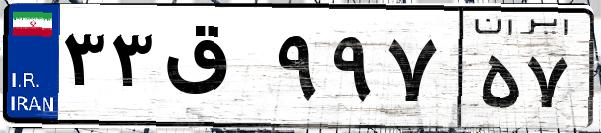3: (57, 26, 110, 100), (110, 28, 158, 98)
5: (475, 38, 525, 113)
7: (385, 28, 445, 110), (525, 38, 570, 115)
9: (270, 28, 330, 110), (330, 28, 385, 110)
ق: (158, 20, 270, 120)
